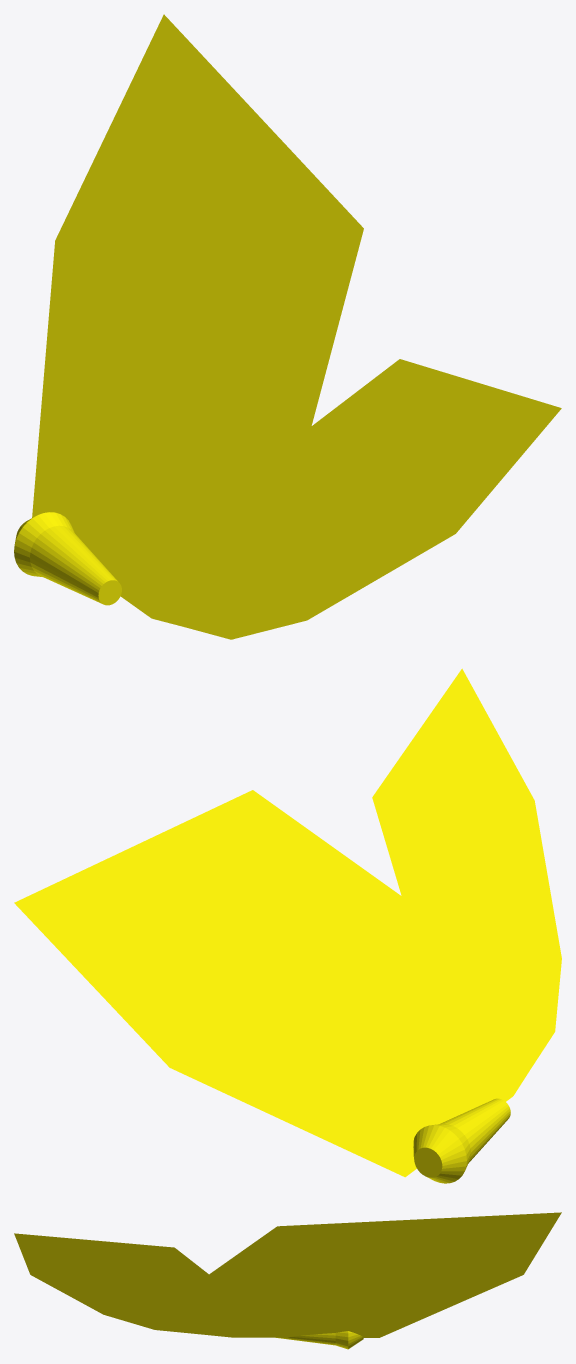
Rendered from butterfly.glb.
3 views of the same model, one above another, from view 1: azimuth 30°, elevation 25°; view 2: azimuth 150°, elevation 25°; view 3: azimuth 270°, elevation 25° (orthographic). The views are drawn at different scales.
Visible parts, largest first — view 1: Plane, Cylinder; view 2: Plane, Cylinder; view 3: Plane, Cylinder.
Boxes of the visible parts, box(x1,y1,x2,y2) form: Plane: box(32, 14, 561, 639); Cylinder: box(14, 512, 121, 605); Plane: box(14, 668, 561, 1177); Cylinder: box(413, 1098, 510, 1183); Plane: box(14, 1212, 561, 1337); Cylinder: box(276, 1331, 363, 1349).
Size of the model in its own units: 0.0464 by 0.0497 by 0.1105.
